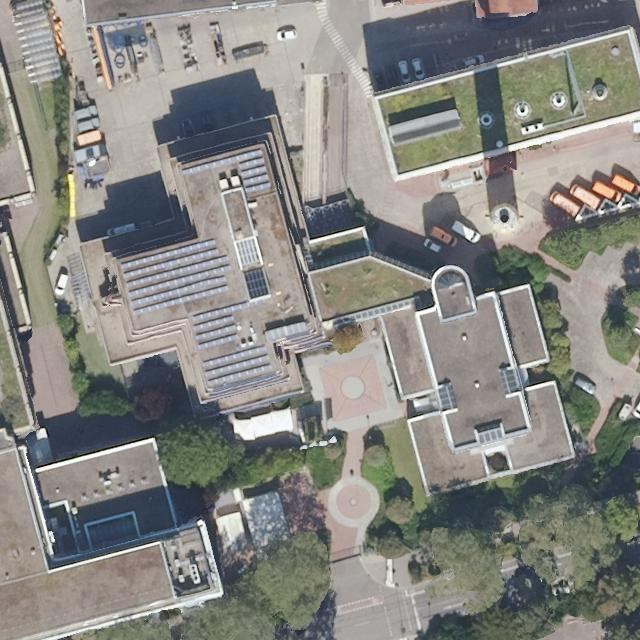PV: (120, 236, 234, 317), (180, 146, 274, 196), (189, 296, 265, 352), (201, 343, 277, 389)
